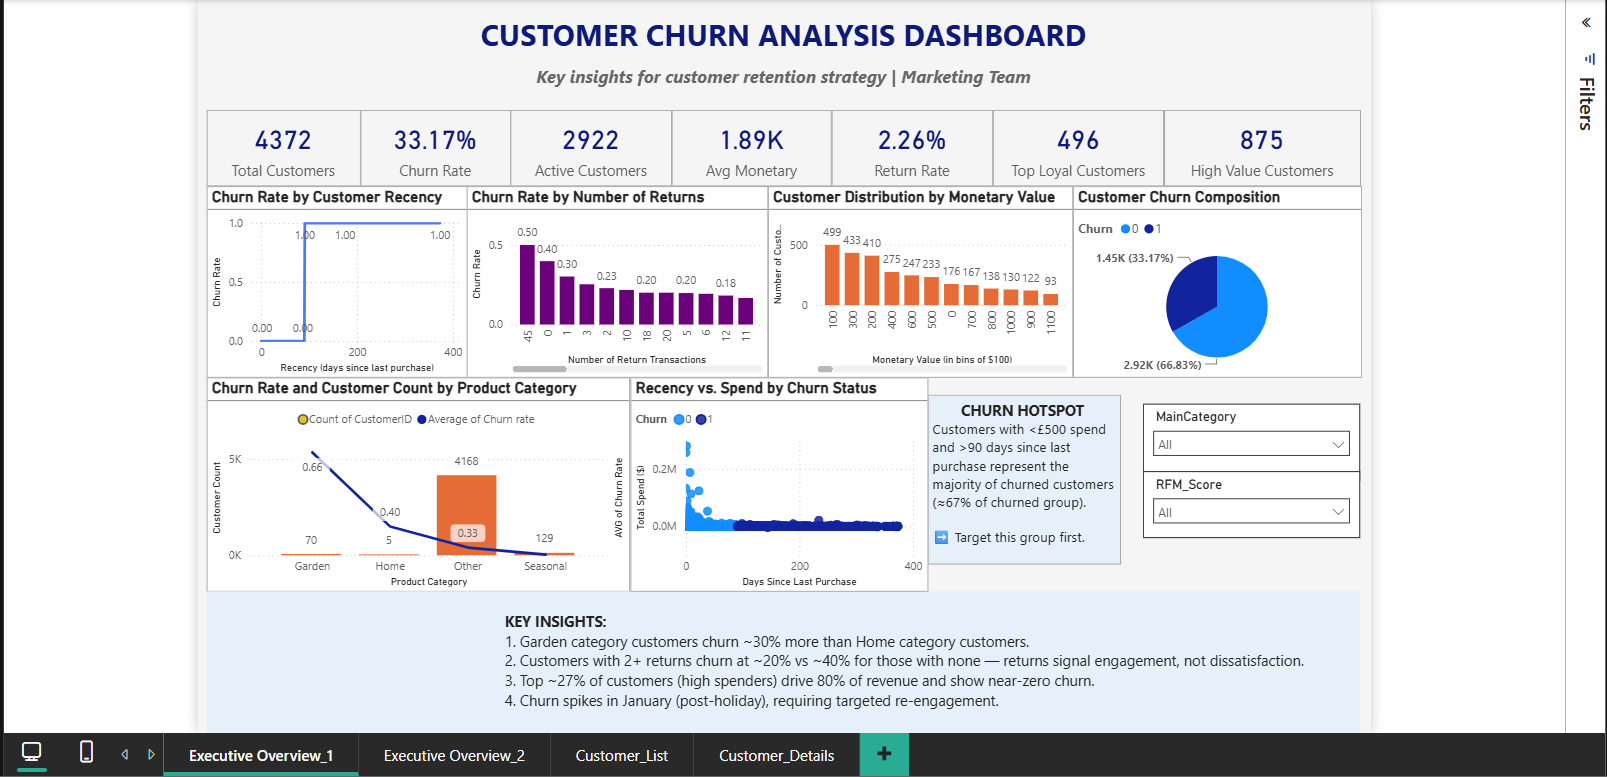

What the dashboard file says about the page in this screenshot:
{"tool":"powerbi","page":{"name":"Executive Overview_1","canvas":[1280,800],"ordinal":0},"visuals":[{"type":"textbox","box":[10.1,11.5,1258.1,53.4],"z":0},{"type":"textbox","box":[10.1,64.9,1258.1,41.8],"z":1000},{"type":"card","fields":{"Values":["customer_churn_analysis.Total Customers"]},"box":[9.5,120,167.7,83.2],"z":2000},{"type":"card","fields":{"Values":["customer_churn_analysis.Churn Rate"]},"box":[177.2,120,163.6,83.2],"z":3000},{"type":"card","fields":{"Values":["customer_churn_analysis.Active Customers"]},"box":[340.8,120,175.9,83.2],"z":4000},{"type":"card","fields":{"Values":["customer_churn_analysis.Avg Monetary"]},"box":[516.7,120,174.5,83.2],"z":5000},{"type":"card","fields":{"Values":["customer_churn_analysis.Return Rate"]},"box":[691.2,120,175.9,83.2],"z":6000},{"type":"card","fields":{"Values":["customer_churn_analysis.High Value Customers"]},"box":[1053.9,120,214,83.2],"z":7000},{"type":"lineChart","title":"Churn Rate by Customer Recency","fields":{"Category":["customer_churn_analysis.Recency"],"Y":["Avg(customer_churn_analysis.Churn)"]},"box":[9.5,203.1,284.9,208.6],"z":8000},{"type":"columnChart","title":"Churn Rate by Number of Returns","fields":{"Category":["customer_churn_analysis.ReturnTransactions"],"Y":["Avg(customer_churn_analysis.Churn)"]},"box":[293.1,203.1,328.6,208.6],"z":9000},{"type":"columnChart","title":"Customer Distribution by Monetary Value","fields":{"Category":["customer_churn_analysis.Monetary (bins)"],"Y":["CountNonNull(customer_churn_analysis.CustomerID)"]},"box":[621.7,203.1,332.7,208.6],"z":10000},{"type":"lineClusteredColumnComboChart","title":"Churn Rate and Customer Count by Product Category","fields":{"Category":["customer_churn_analysis.MainCategory"],"Y":["CountNonNull(customer_churn_analysis.CustomerID)"],"Y2":["Avg(customer_churn_analysis.Churn)"]},"box":[10.1,411.2,461.7,233.7],"z":11000},{"type":"slicer","title":"Churn Rate and Customer Count by Product Category","fields":{"Values":["customer_churn_analysis.MainCategory"]},"box":[1030.1,440,236.6,83.7],"z":12000},{"type":"slicer","title":"Churn Rate and Customer Count by Product Category","fields":{"Values":["customer_churn_analysis.RFM_Score"]},"box":[1030.4,514.4,236.6,73],"z":13000},{"type":"shape","box":[10.1,644.9,1258.1,154.4],"z":14000},{"type":"textbox","box":[10.1,660.8,1258.1,138.5],"z":15000},{"type":"shape","box":[796.4,431.4,210.6,184.7],"z":16000},{"type":"textbox","box":[796.4,431.4,210.6,184.7],"z":17000},{"type":"pieChart","title":"Customer Churn Composition","fields":{"Category":["customer_churn_analysis.Churn"],"Y":["CountNonNull(customer_churn_analysis.CustomerID)"]},"box":[954.3,203.1,314.9,208.6],"z":18000},{"type":"scatterChart","title":"Recency vs. Spend by Churn Status","fields":{"Series":["customer_churn_analysis.Churn"],"X":["customer_churn_analysis.Recency"],"Y":["customer_churn_analysis.Monetary"]},"box":[471.8,411.2,324.6,233.7],"z":19000},{"type":"card","fields":{"Values":["customer_churn_analysis.Top Loyal Customers"]},"box":[867.1,120,186.8,83.2],"z":20000}]}

Visuals, with their boxes on the page's 1280x800 design canvas (x1, y1, x2, y2). These are canvas units, not pixel positions in the 1607x777 screenshot, which may show the page scaled, cropped or inside an application window:
textbox: [left=10, top=12, right=1268, bottom=65]
textbox: [left=10, top=65, right=1268, bottom=107]
card - customer_churn_analysis.Total Customers: [left=10, top=120, right=177, bottom=203]
card - customer_churn_analysis.Churn Rate: [left=177, top=120, right=341, bottom=203]
card - customer_churn_analysis.Active Customers: [left=341, top=120, right=517, bottom=203]
card - customer_churn_analysis.Avg Monetary: [left=517, top=120, right=691, bottom=203]
card - customer_churn_analysis.Return Rate: [left=691, top=120, right=867, bottom=203]
card - customer_churn_analysis.High Value Customers: [left=1054, top=120, right=1268, bottom=203]
"Churn Rate by Customer Recency" lineChart: [left=10, top=203, right=294, bottom=412]
"Churn Rate by Number of Returns" columnChart: [left=293, top=203, right=622, bottom=412]
"Customer Distribution by Monetary Value" columnChart: [left=622, top=203, right=954, bottom=412]
"Churn Rate and Customer Count by Product Category" lineClusteredColumnComboChart: [left=10, top=411, right=472, bottom=645]
"Churn Rate and Customer Count by Product Category" slicer: [left=1030, top=440, right=1267, bottom=524]
"Churn Rate and Customer Count by Product Category" slicer: [left=1030, top=514, right=1267, bottom=587]
shape: [left=10, top=645, right=1268, bottom=799]
textbox: [left=10, top=661, right=1268, bottom=799]
shape: [left=796, top=431, right=1007, bottom=616]
textbox: [left=796, top=431, right=1007, bottom=616]
"Customer Churn Composition" pieChart: [left=954, top=203, right=1269, bottom=412]
"Recency vs. Spend by Churn Status" scatterChart: [left=472, top=411, right=796, bottom=645]
card - customer_churn_analysis.Top Loyal Customers: [left=867, top=120, right=1054, bottom=203]
